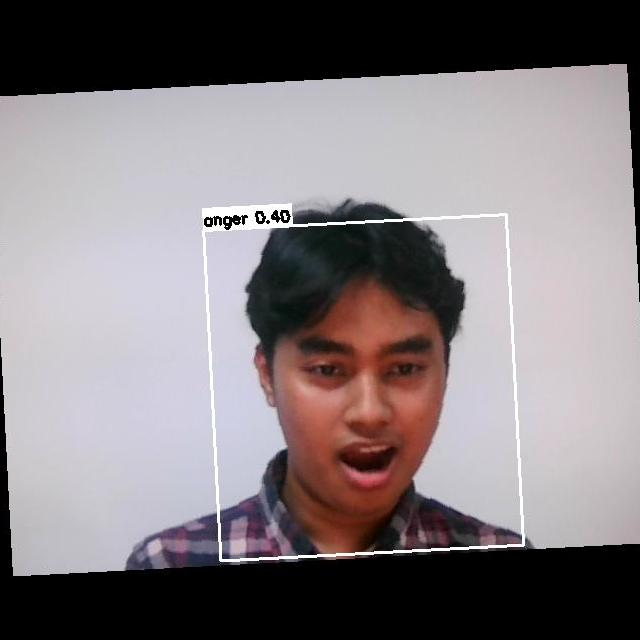Surprised: (269, 315, 477, 501)
